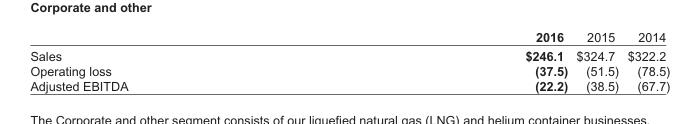table: (29, 29, 669, 92)
table column: (29, 29, 325, 92), (325, 29, 571, 92), (571, 29, 622, 92), (622, 29, 669, 92)
table column header: (29, 29, 669, 45)
table row: (29, 45, 669, 62), (29, 29, 669, 45), (29, 62, 669, 77), (29, 77, 669, 92)
